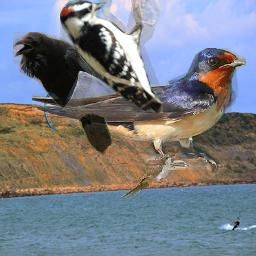Crow: (13, 32, 114, 156)
Cuckoo: (120, 154, 175, 198)
Swallow: (32, 48, 246, 170)
Woodpecker: (60, 0, 163, 113)
